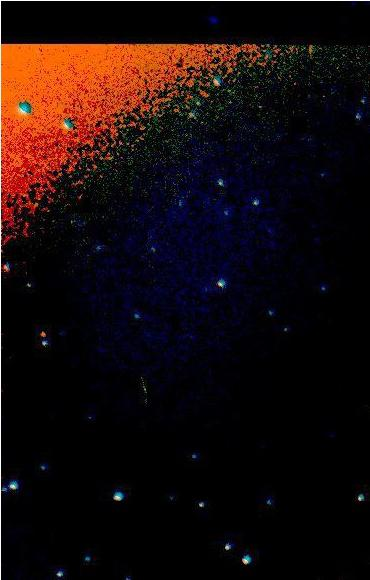star: (26, 317, 56, 347)
